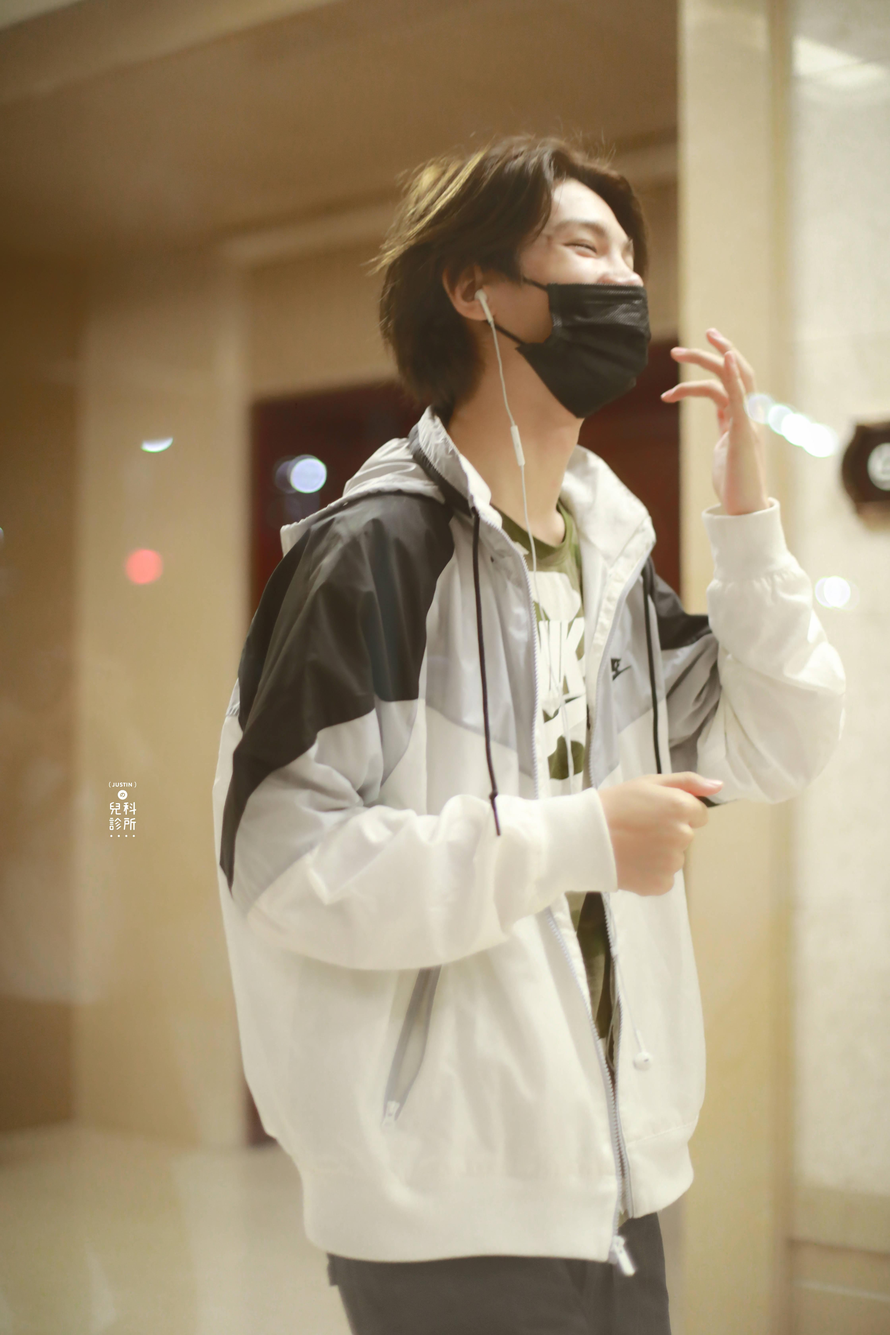WRONG: (515, 201, 656, 408)
